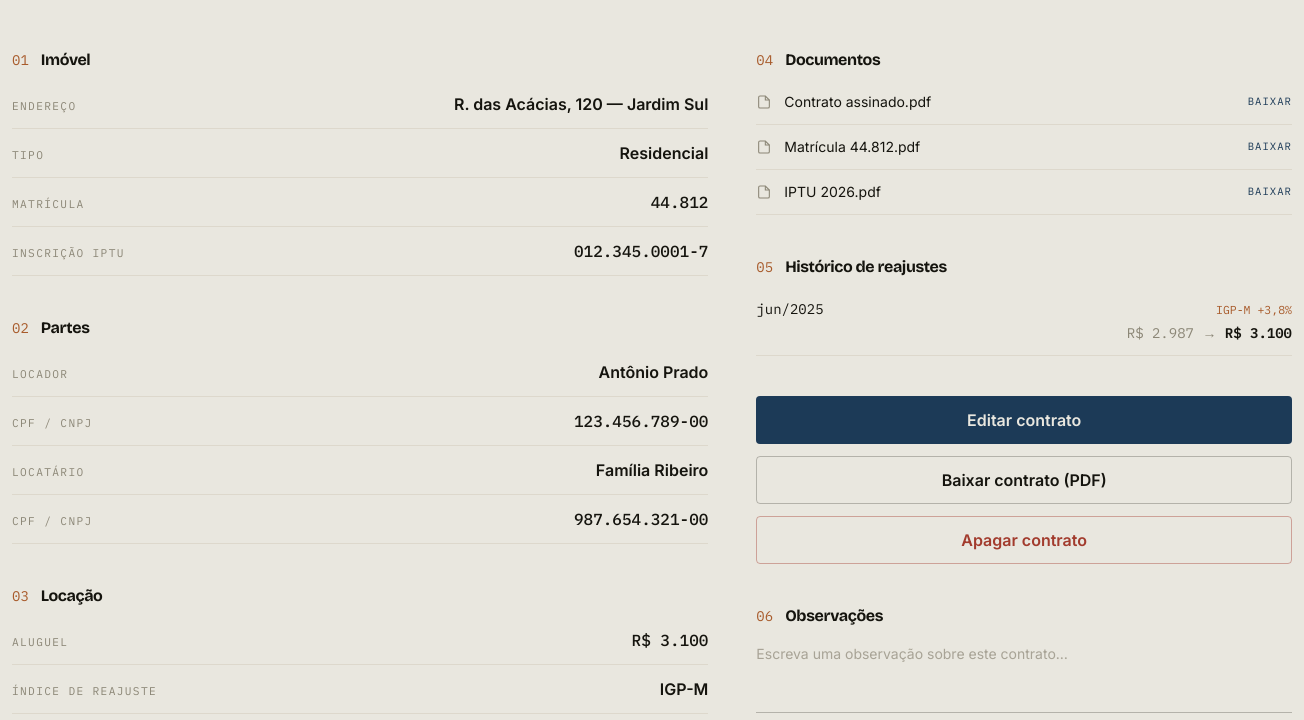
Test: ContratoCorpo › descarta a edição ao cancelar
The width and height of the screenshot is (1304, 720).
Click the button "Editar contrato".
click(1024, 420)  # box [756,396,1292,444]
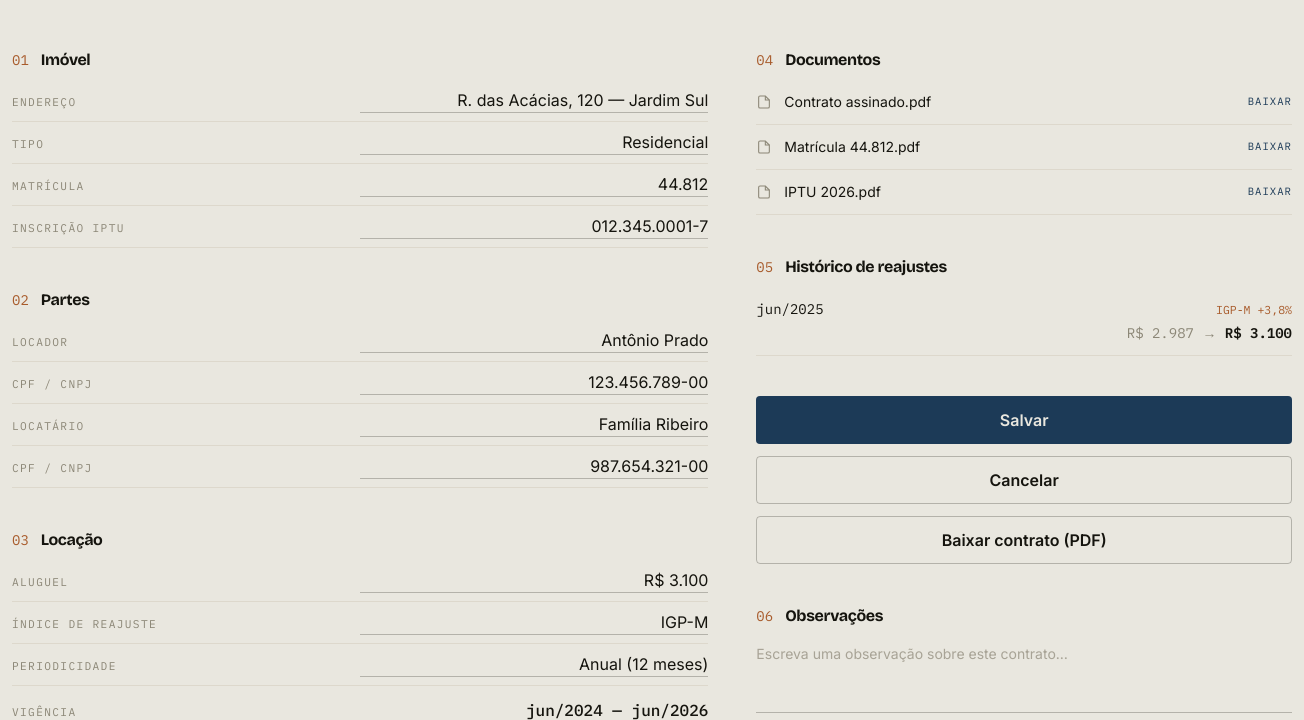
Replace the text in the field labelled "Aluguel" with "R$ 9.999" at x=534, y=580, box [360,568,708,593]
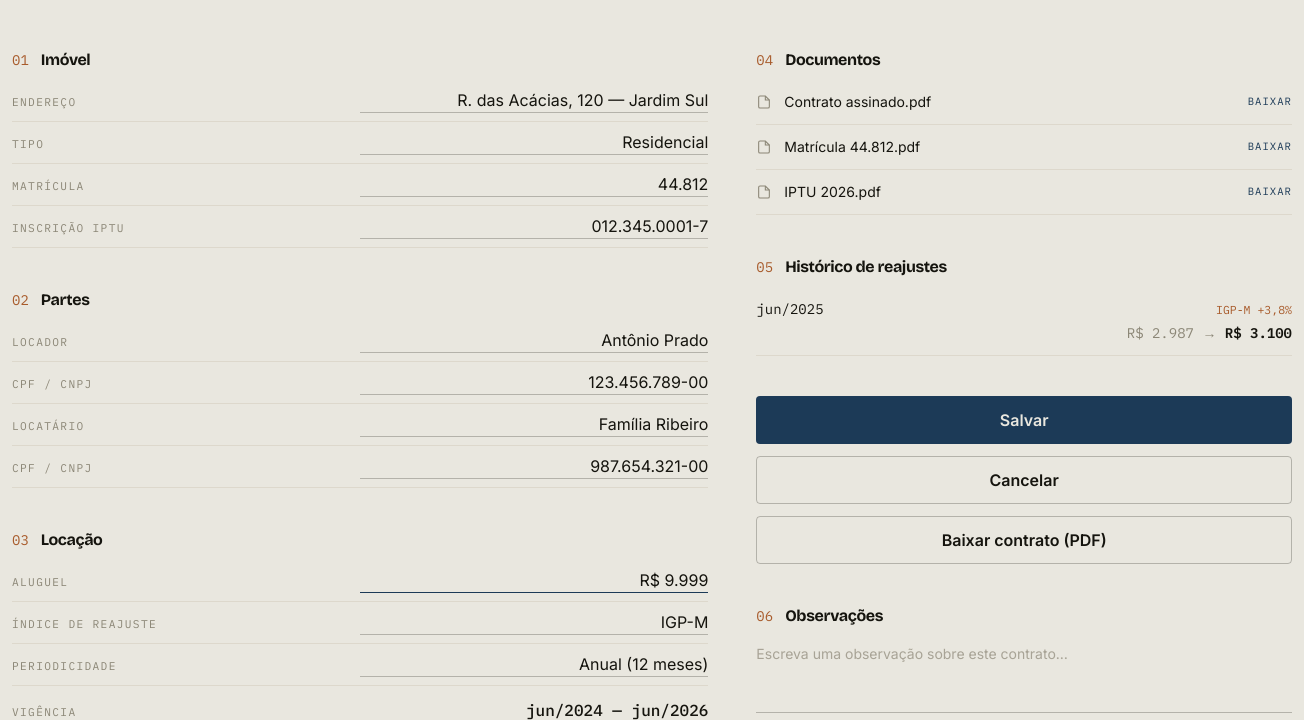
Click the button "Cancelar".
click(1024, 480)  # box [756,456,1292,504]
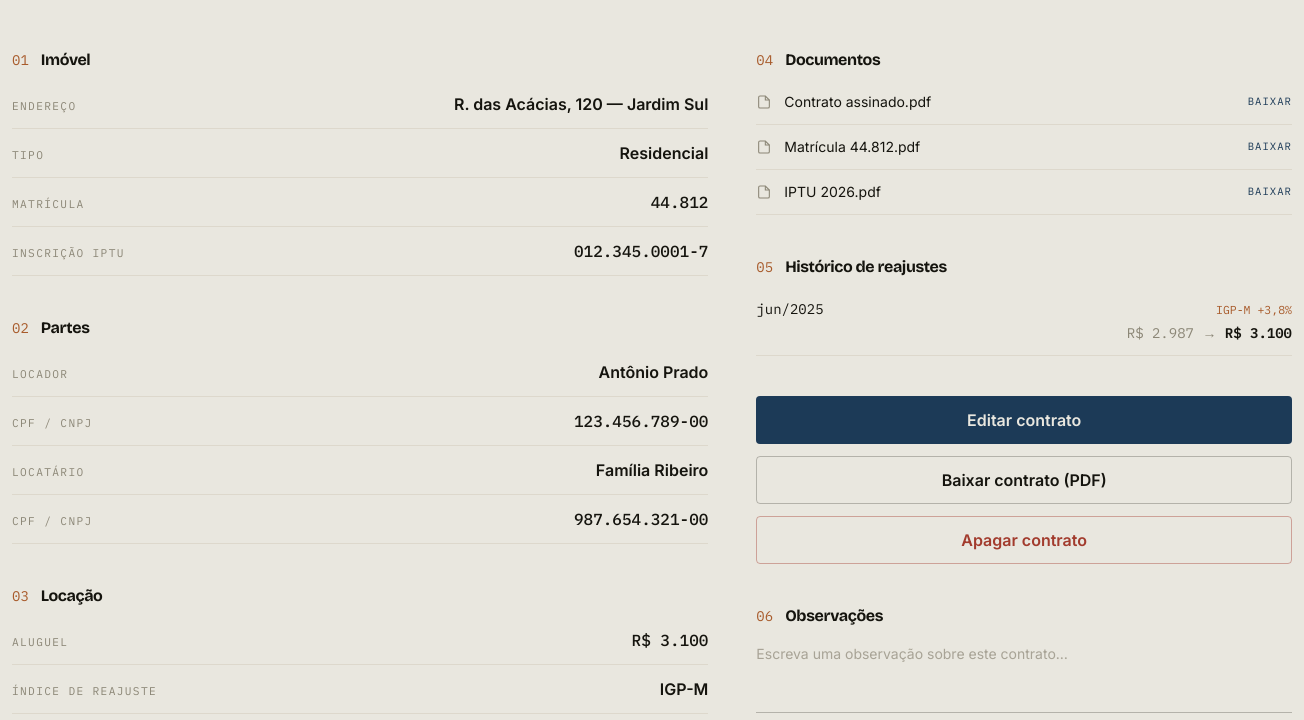
Expected: the text "R$ 9.999" is not shown
Expected: the text "Aluguel" shows "R$ 3.100", [632,630,708,650]
